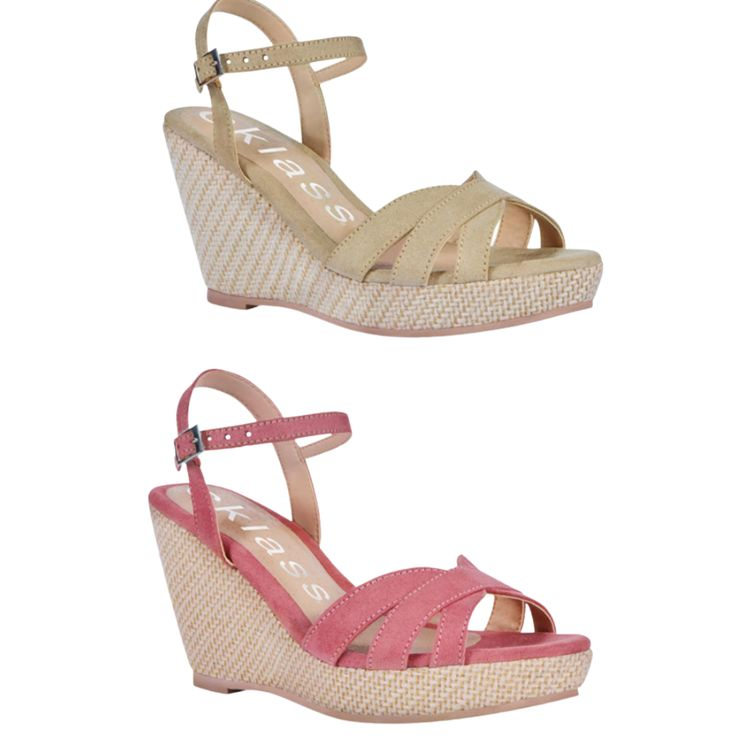gamuza: (174, 1, 602, 670)
